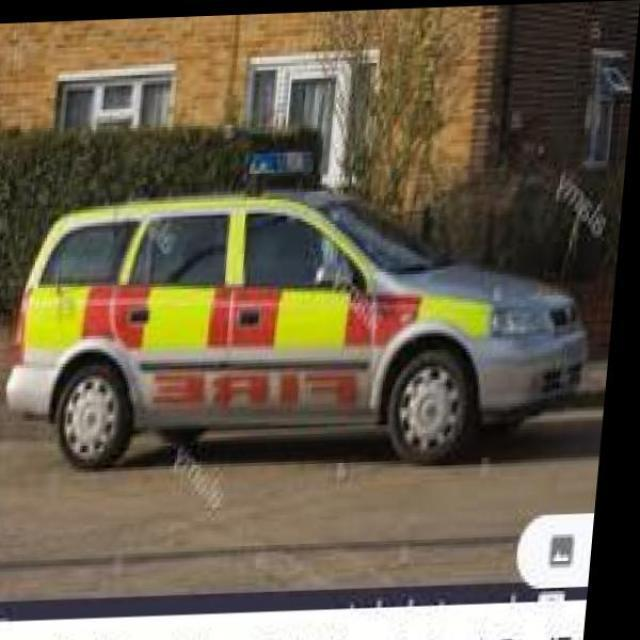emergency: (4, 182, 588, 470)
